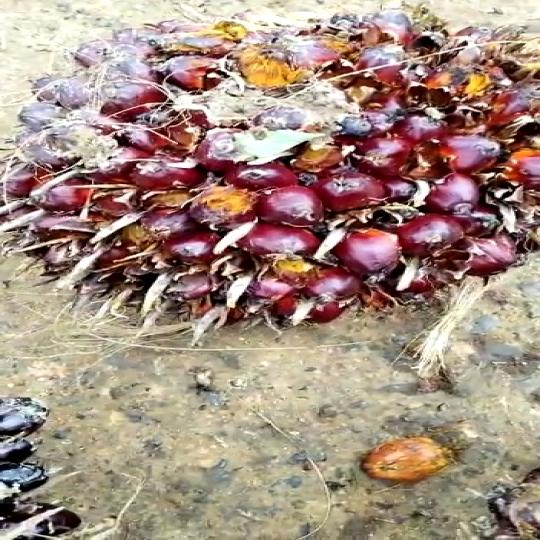masak: (0, 11, 540, 333)
